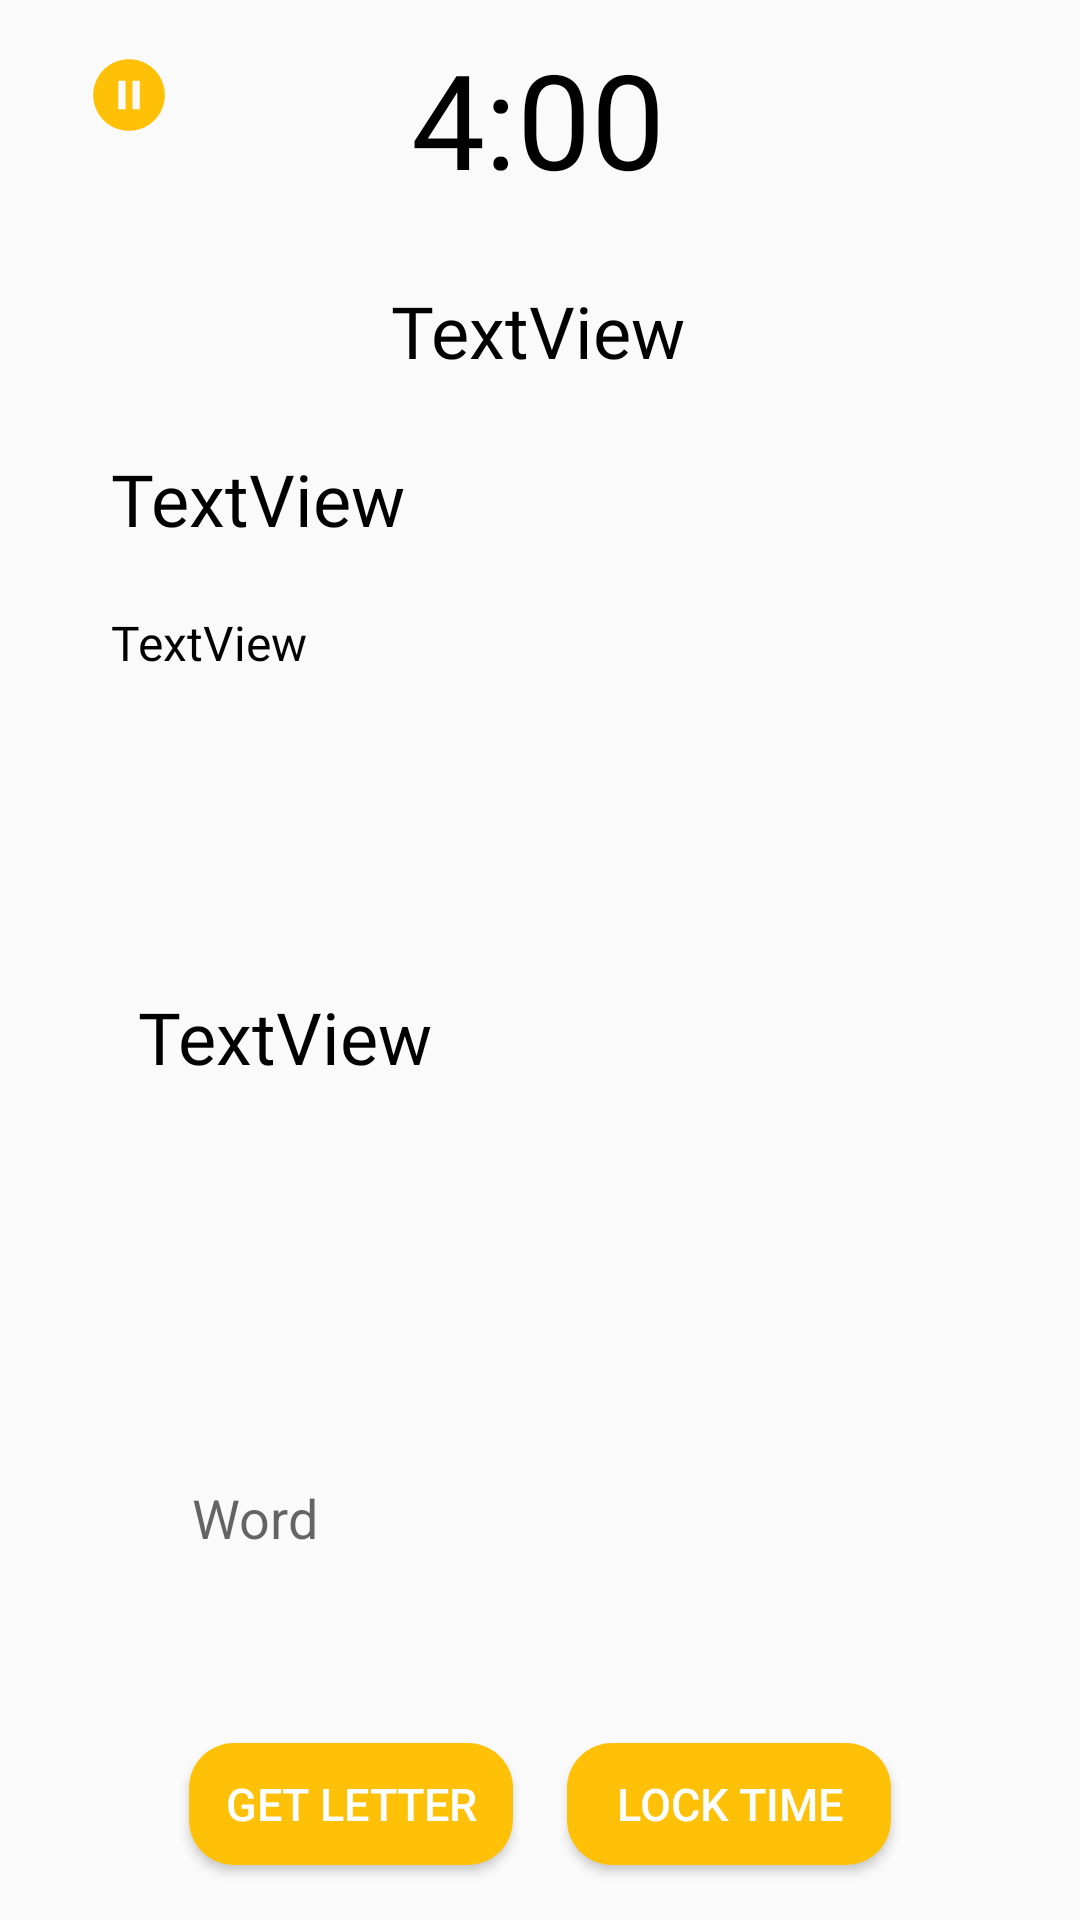

Icon click points for this 1080px x 1920px phone screenshot, format point (x, y):
puse: point (129, 95)
